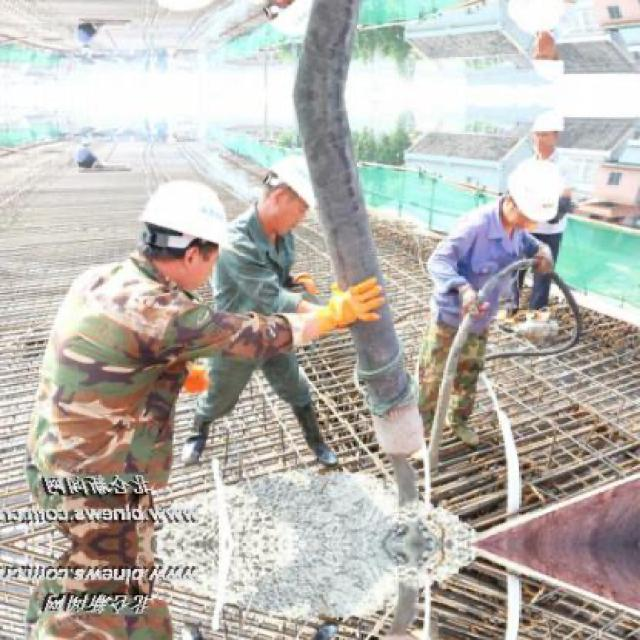con casco: (109, 203, 255, 326), (469, 172, 609, 269), (252, 174, 362, 260), (516, 103, 610, 193)
